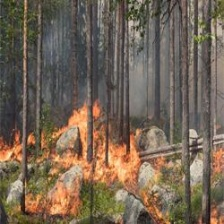fire: (15, 124, 155, 213)
